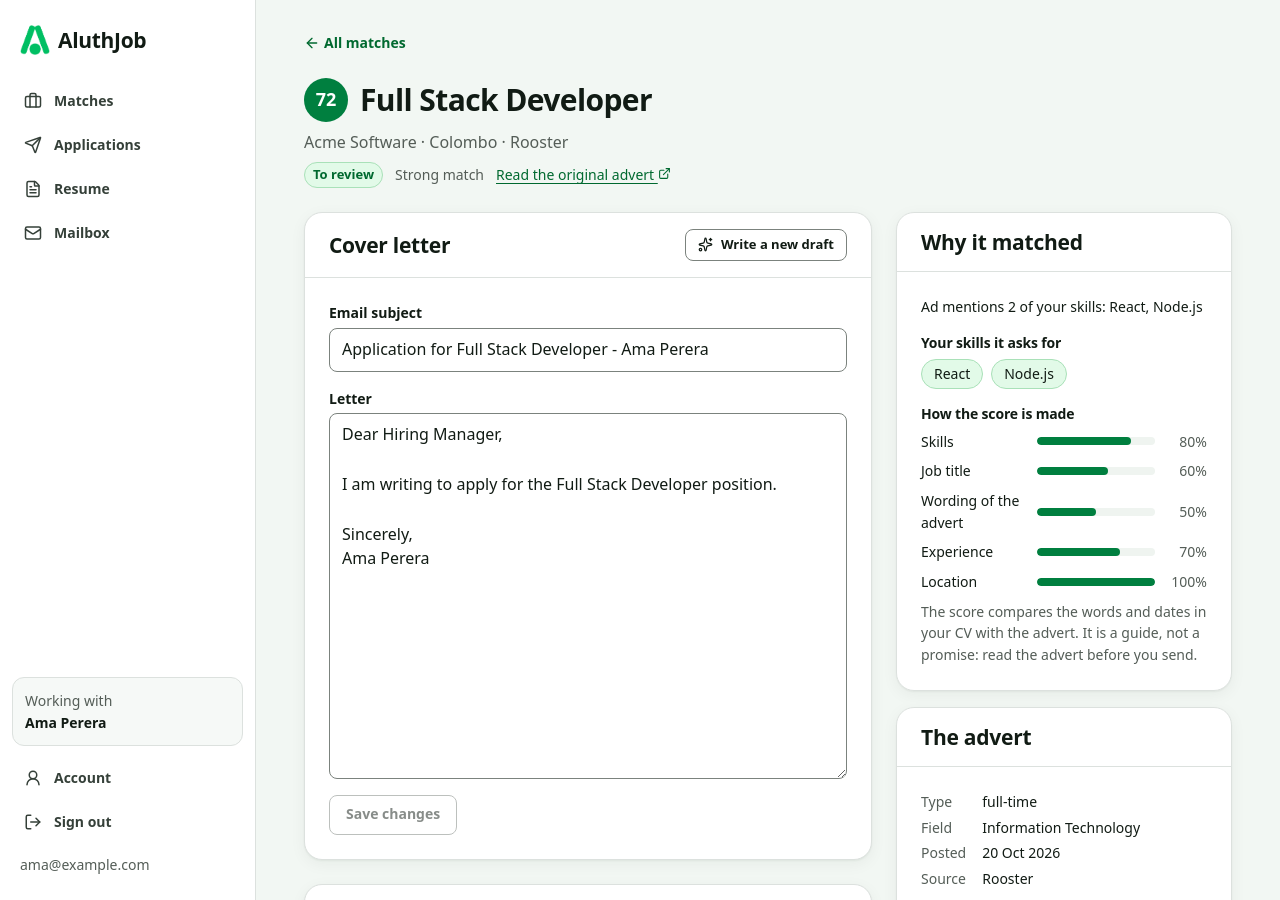
it: match page: approving and sending › will not approve a letter that has unsaved edits, so what is approved is what is on screen
This screenshot has width=1280, height=900.
Type " plus a change" into the text box labelled "Letter".
click(588, 596); type(" plus a change")  # box [329,413,847,779]
(page scrolled)
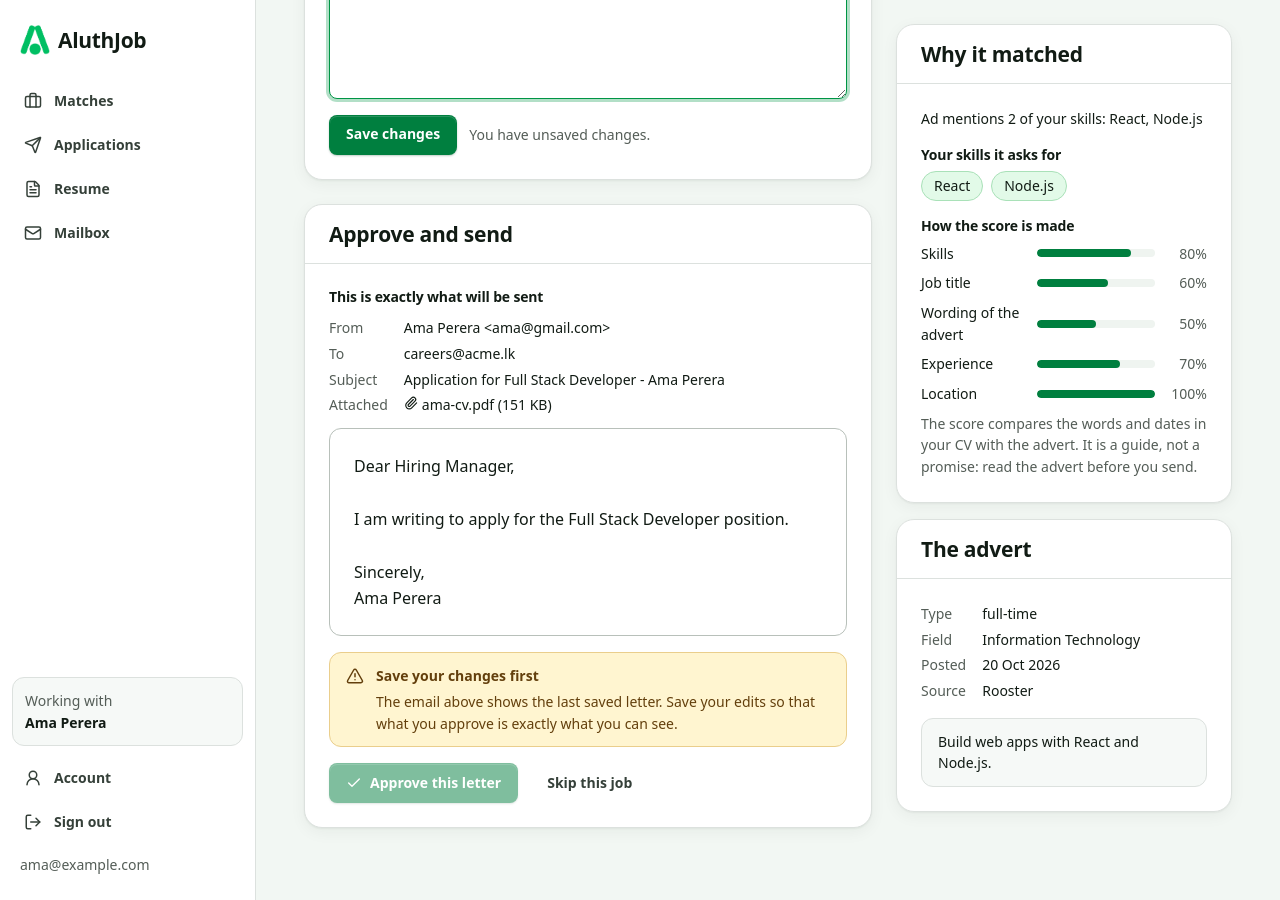
Expected: the text "Save your changes first" is shown, [376,666,539,685]
Expected: the button "Approve this letter" is disabled, [329,763,518,803]
